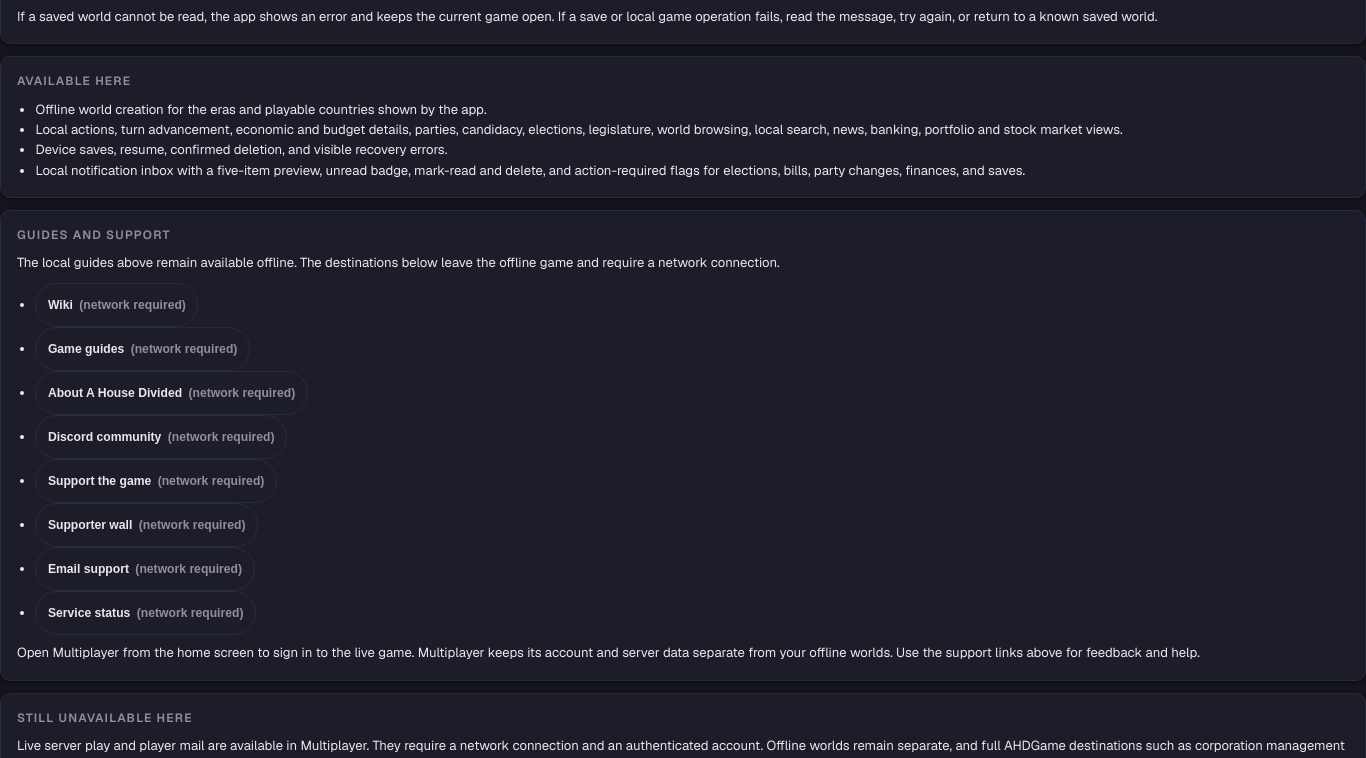
Scenario: help network-error narrow-viewport contract › re-enables the destination actions after a failure so retry stays reachable
(page scrolled)
Click the button "Wiki (network required)": click(117, 305) [35,283,198,327]
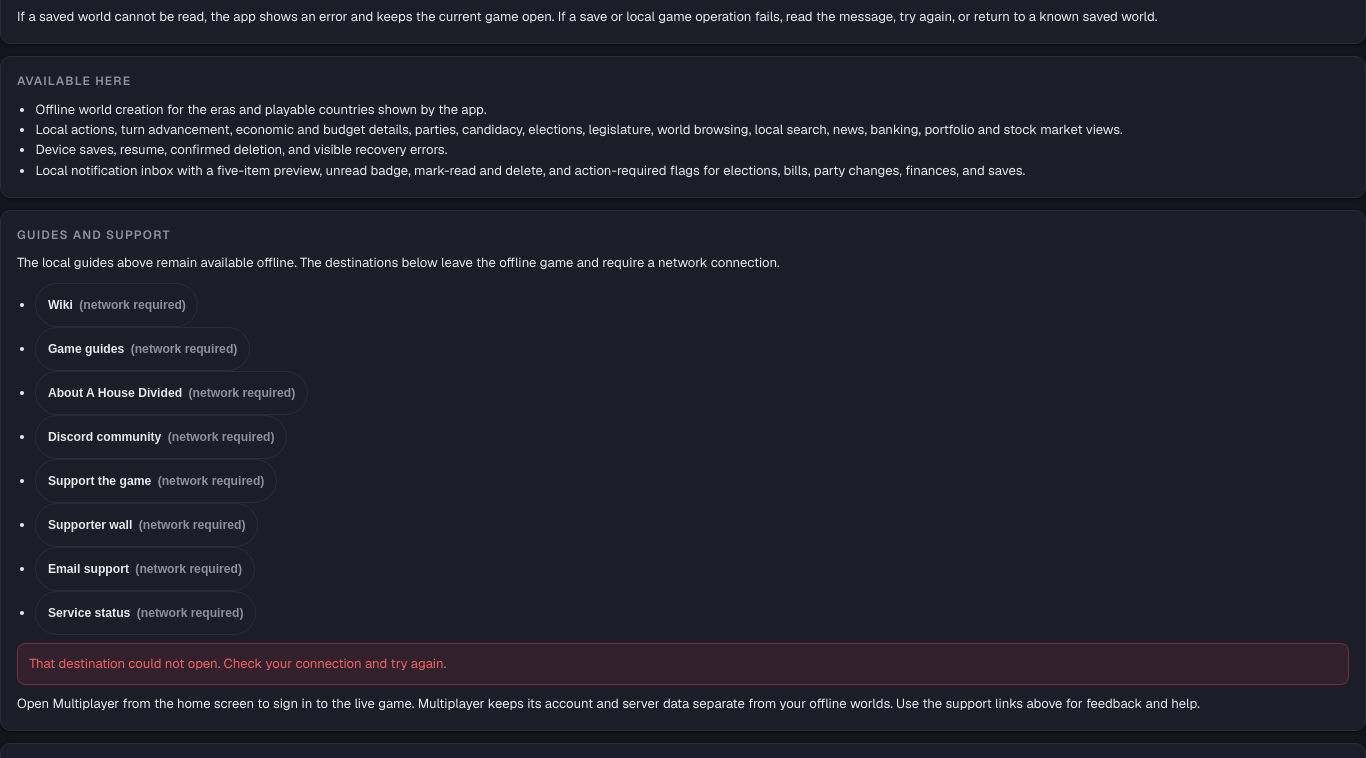
Check: the button "Game guides (network required)" is enabled, box [35,327,250,371]
Check: the message "That destination could not open. Check your connection and try again." is shown, box [17,643,1349,685]
